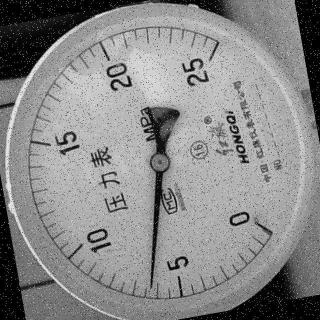gauge: (0, 0, 320, 320), (233, 201, 279, 248), (190, 41, 227, 75), (146, 148, 174, 174), (146, 278, 158, 293)
